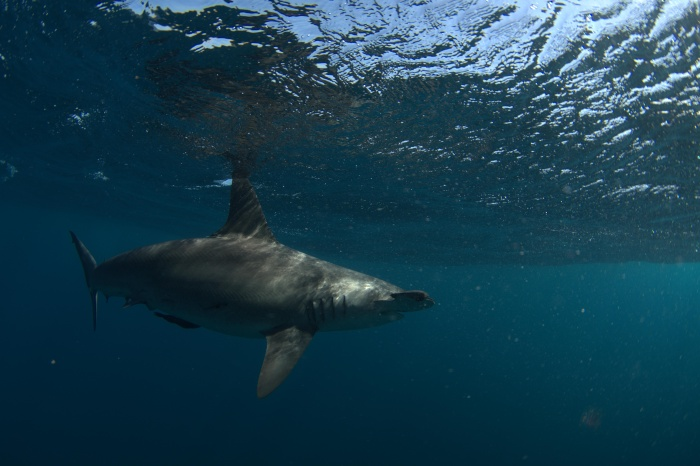Hammer: (41, 143, 445, 422)
